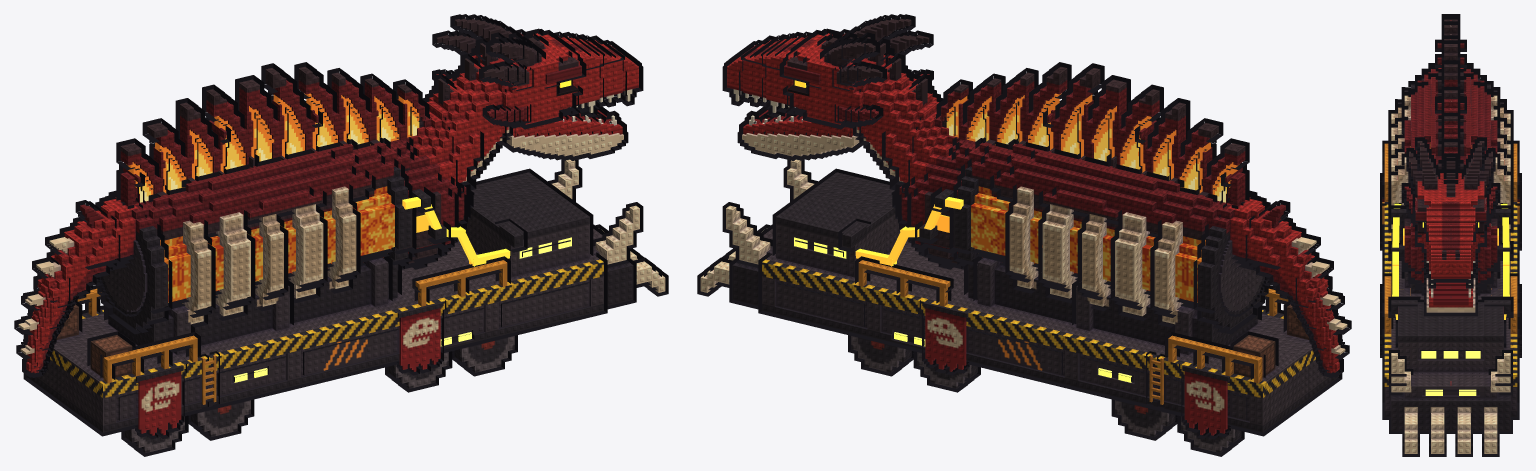
The model's file is fire_dragon.glb.
The picture shows the model from 3 angles, left to right: view 1: azimuth 30°, elevation 25°; view 2: azimuth 150°, elevation 25°; view 3: azimuth 270°, elevation 25°; orthographic projection. The views are drawn at different scales.
Visible parts, largest first — view 1: Body, Wagon, Head, Flames, Neck, Lava, Tail2, Jaw, Tail3, Tail1; view 2: Body, Wagon, Head, Flames, Neck, Lava, Tail2, Jaw, Tail3, Tail1; view 3: Wagon, Body, Head, Jaw, PipeL2, PipeR2, PipeL4, PipeR4.
Boxes of the visible parts, x1,y1,x2,y2 form: Body: (96,62,527,354); Wagon: (23,159,668,456); Head: (432,14,643,145); Flames: (126,93,419,202); Neck: (419,53,506,194); Lava: (160,186,394,308); Tail2: (45,200,120,320); Jaw: (503,106,628,160); Tail3: (14,256,70,377); Tail1: (95,179,167,270); Body: (838,62,1269,354); Wagon: (697,159,1342,456); Head: (722,14,933,145); Flames: (946,93,1239,202); Neck: (859,53,946,195); Lava: (971,186,1205,308); Tail2: (1245,200,1320,320); Jaw: (737,106,862,160); Tail3: (1295,256,1351,377); Tail1: (1198,179,1270,270); Wagon: (1380,140,1521,456); Body: (1388,14,1513,317); Head: (1401,137,1500,288); Jaw: (1424,272,1477,316); PipeL2: (1502,217,1509,247); PipeR2: (1392,217,1399,247); PipeL4: (1503,262,1509,296); PipeR4: (1392,262,1398,296).
Size of the model in its own units: 45.32 by 22.44 by 10.24.
8 materials, 4 textured.
